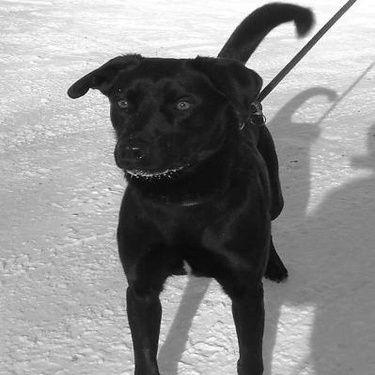dog: (59, 2, 317, 373)
